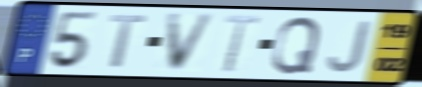5: (47, 9, 99, 71)
J: (325, 19, 374, 75)
Q: (269, 15, 323, 76)
T: (220, 13, 263, 75), (107, 14, 150, 70)
V: (165, 12, 219, 74)
